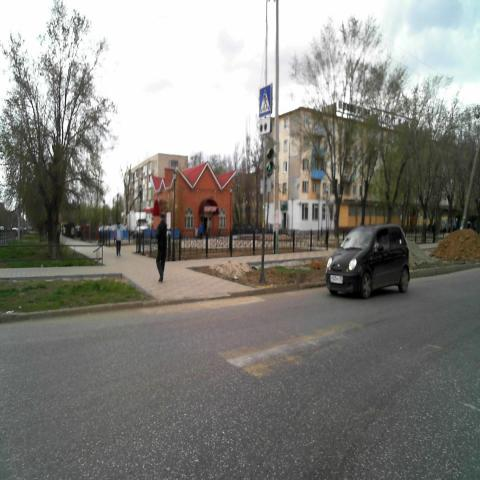8_15: (258, 117, 272, 135)
